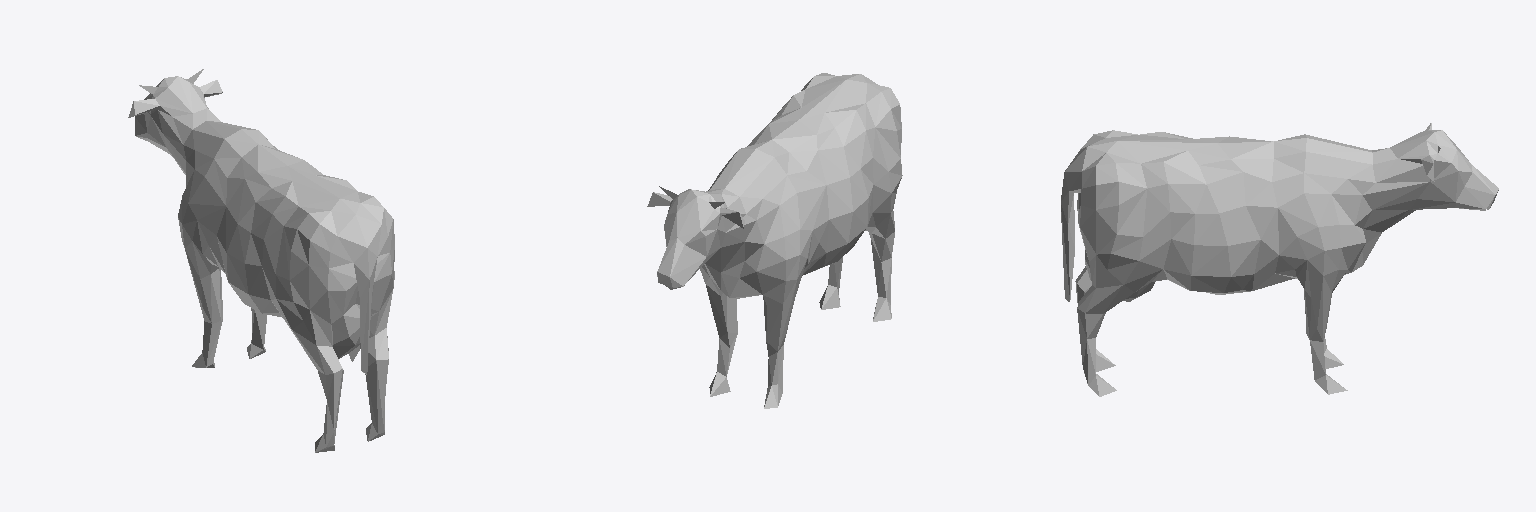
The model's file is cow.obj.
The picture shows the model from 3 angles: view 1: azimuth 30°, elevation 25°; view 2: azimuth 150°, elevation 25°; view 3: azimuth 270°, elevation 25°; orthographic projection.
Parts seen in each view (by area): view 1: cow; view 2: cow; view 3: cow.
Part boxes in pixels (x1,y1,x2,y2): cow: (128,69,394,452); cow: (647,73,902,408); cow: (1061,123,1498,396).
Bounding box in the file's own units: 0.7586 × 1.56 × 2.51.